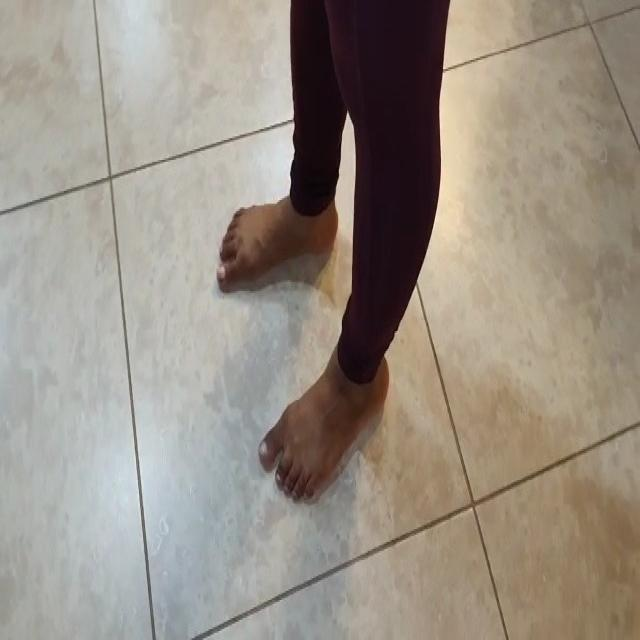no-boots: (258, 325, 392, 514), (216, 200, 342, 298)
